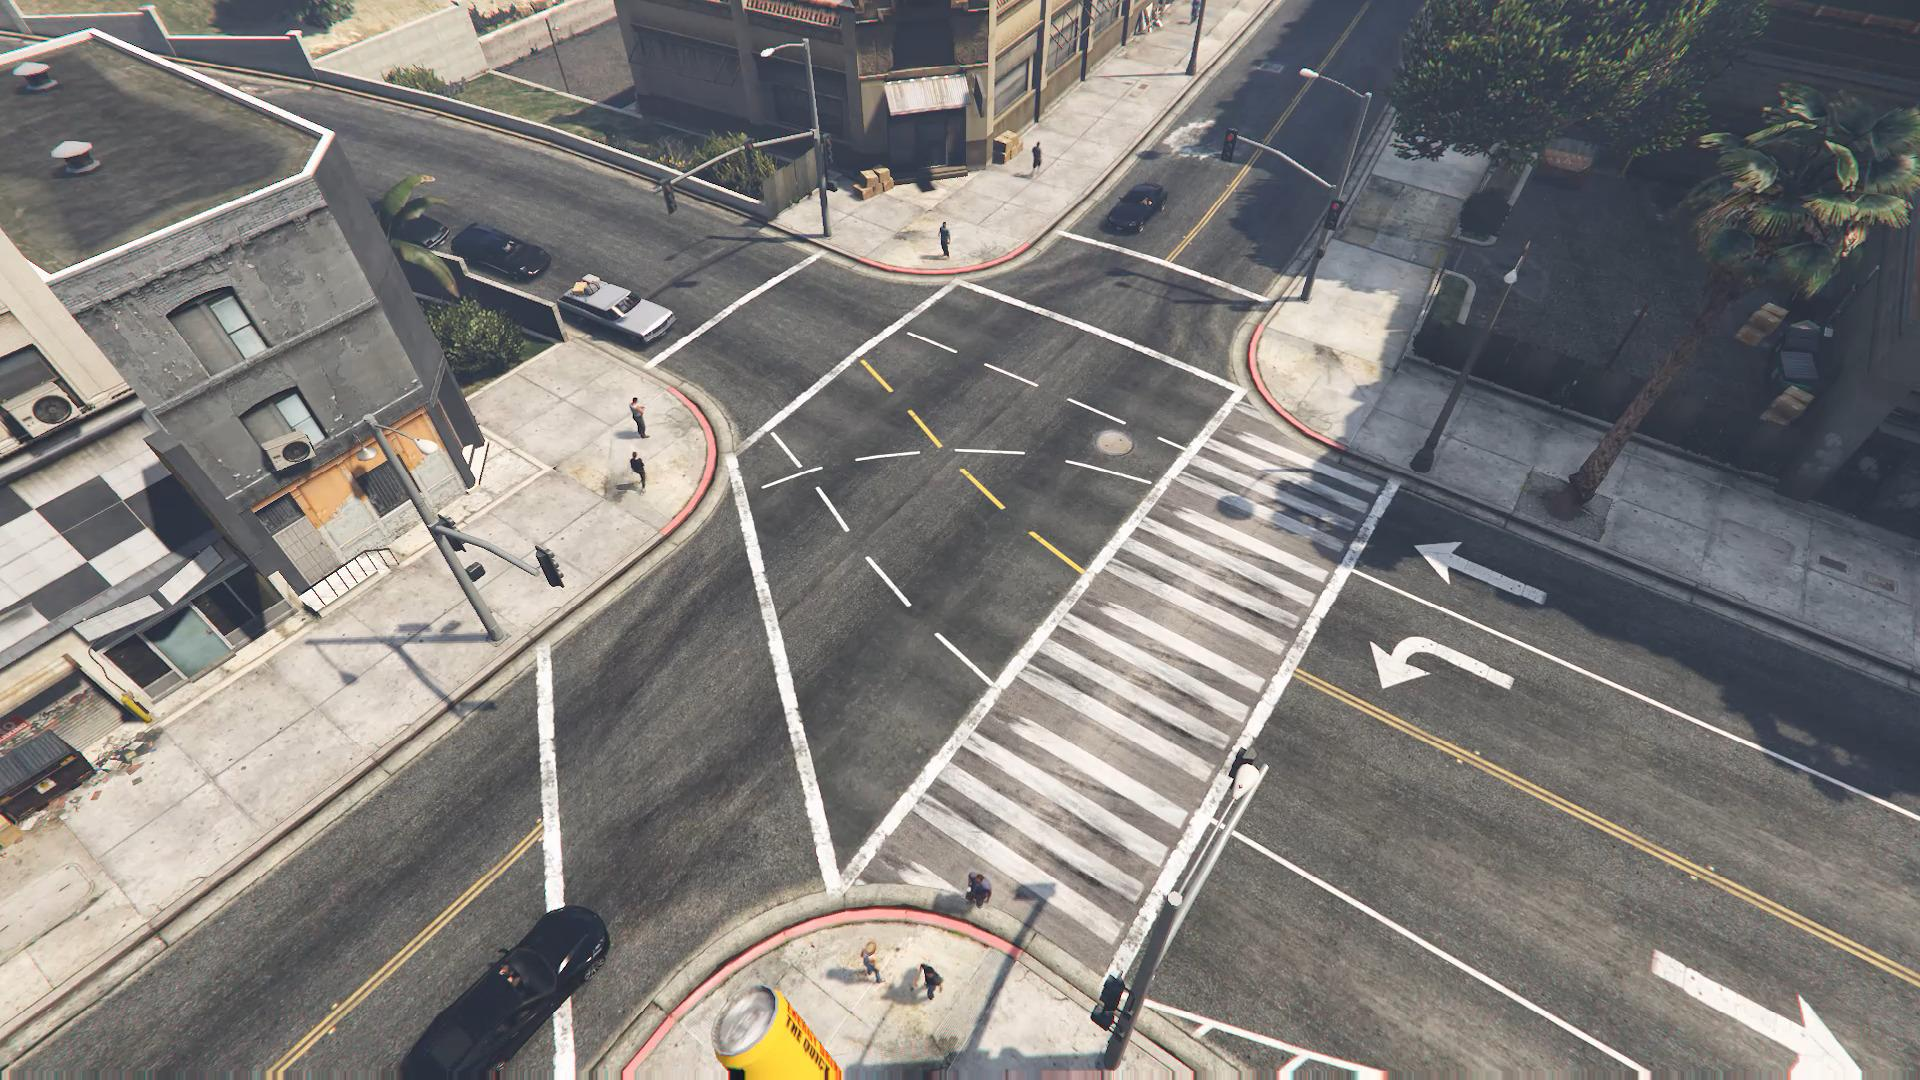car: (398, 905, 609, 1079), (556, 272, 675, 345), (450, 222, 551, 281), (1102, 182, 1167, 233), (392, 214, 448, 252)
